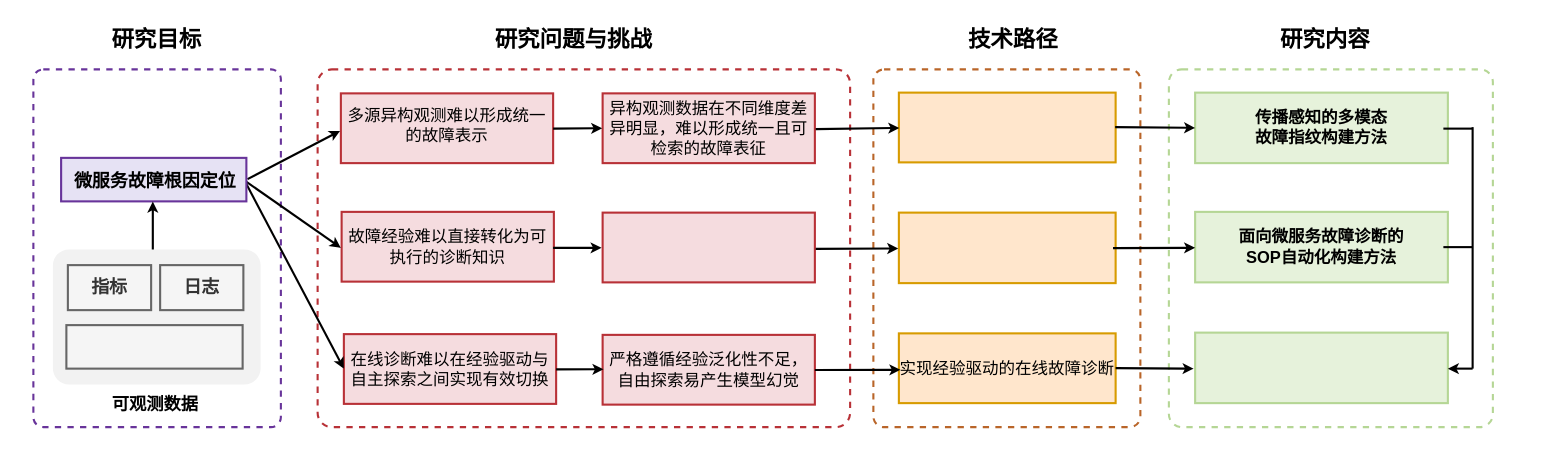
The diagram is 1553 pixels wide and 464 high, and some of its shapes have lost their labels. Here are the shapes that lost their labels. From the top down, the centre of each, then its label:
At point 1006,127: "构建统一、可检索的 故障指纹".
At point 708,247: "历史诊断案例分散且非结构化，难以抽象为稳定、可复用的诊断经验".
At point 1006,247: "构建可执行、可复用的诊断经验".
At point 154,346: "链路追踪".
At point 1321,367: "SOP 驱动的多智能体 在线故障诊断方法".
